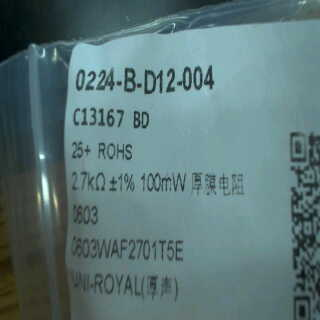2.7kR: (66, 166, 110, 195)
